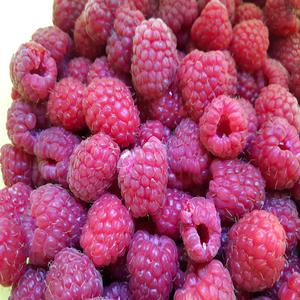raspb: (10, 38, 300, 300)
